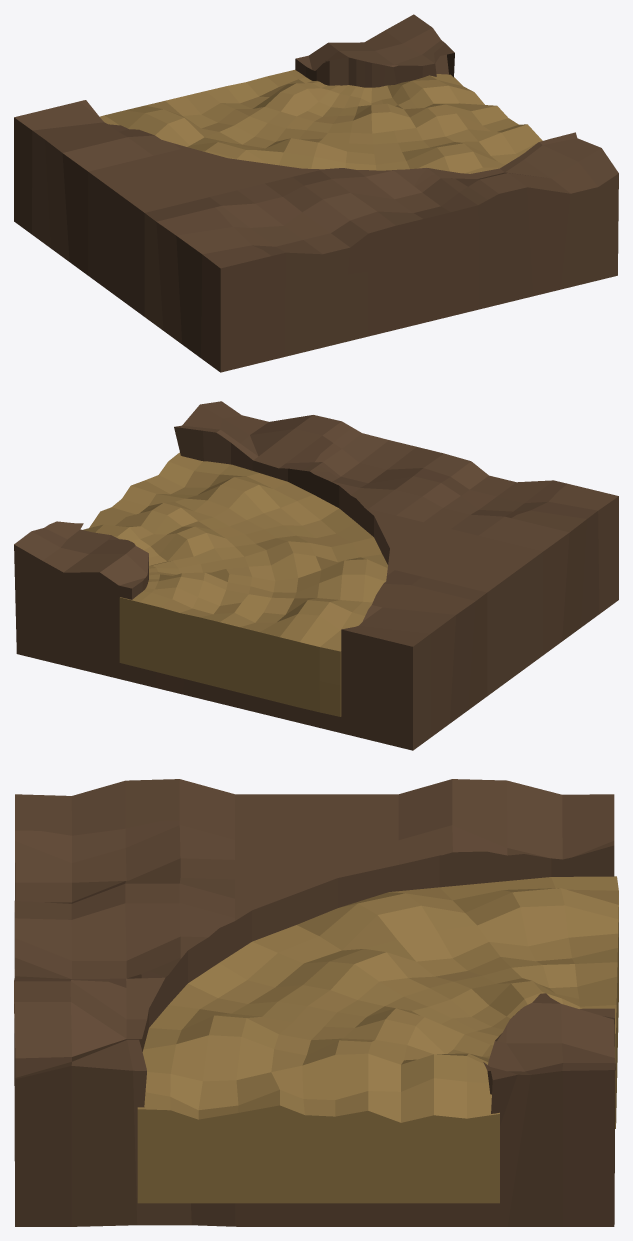
The model's file is CHEMINvirage.fbx.
3 renders of one model, top to bottom at view 1: azimuth 30°, elevation 25°; view 2: azimuth 150°, elevation 25°; view 3: azimuth 270°, elevation 25°, orthographic. The views are drawn at different scales.
Parts seen in each view (by area): view 1: Cube.005, Cube.004; view 2: Cube.005, Cube.004; view 3: Cube.005, Cube.004.
Part boxes in pixels (x1,y1,x2,y2): Cube.005: (14,14,618,372); Cube.004: (100,70,542,173); Cube.005: (14,401,618,750); Cube.004: (83,452,387,716); Cube.005: (14,779,615,1226); Cube.004: (137,876,618,1203).
Size of the model in its own units: 2253 by 594 by 1993.
